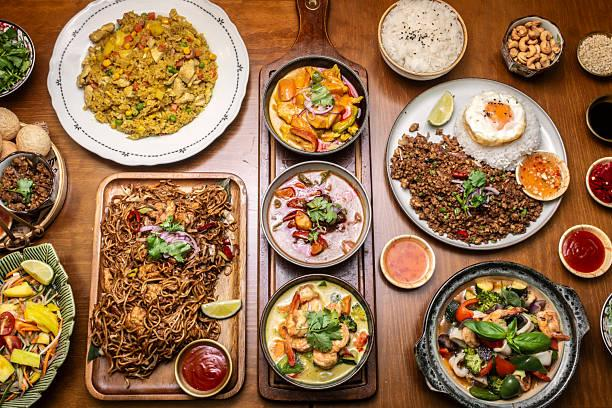Braised Crucian Carp: (83, 171, 244, 398), (48, 0, 248, 167), (384, 76, 564, 249), (410, 260, 590, 406), (258, 275, 374, 391), (260, 161, 370, 268), (261, 54, 368, 156)
